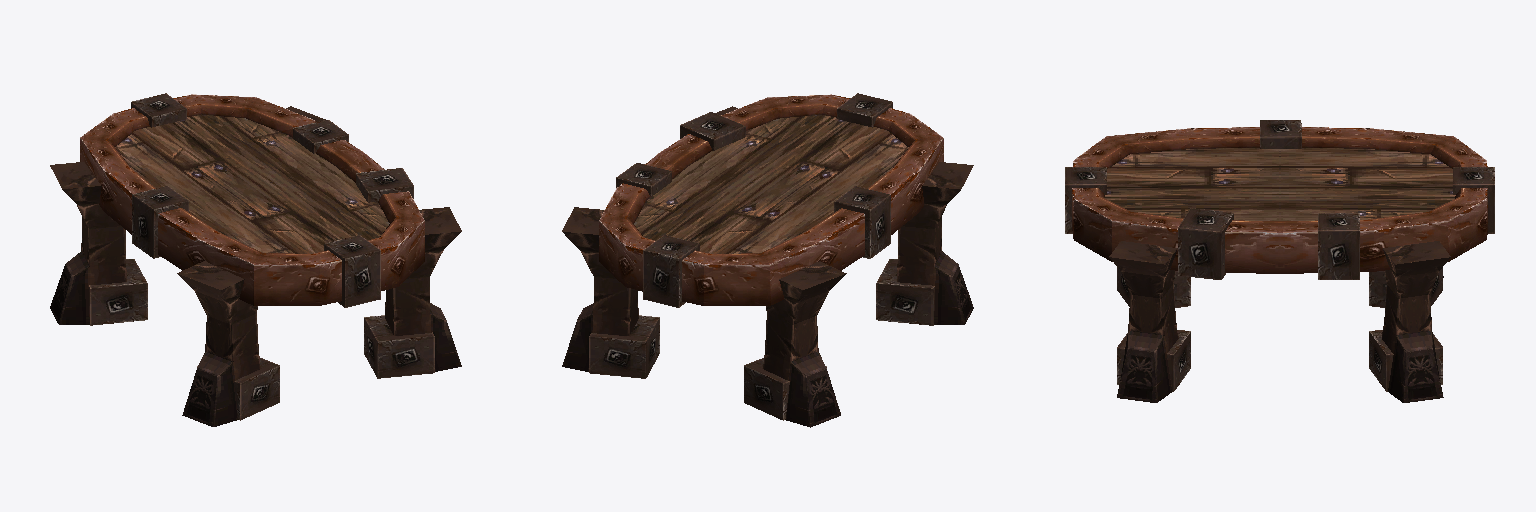
The picture shows the model from 3 angles: view 1: azimuth 30°, elevation 25°; view 2: azimuth 150°, elevation 25°; view 3: azimuth 270°, elevation 25°; orthographic projection.
Visible parts, largest first — view 1: winterorc_table_020; view 2: winterorc_table_020; view 3: winterorc_table_020.
Boxes of the visible parts, <box> form: winterorc_table_020: <box>50,93,461,426</box>; winterorc_table_020: <box>562,93,973,427</box>; winterorc_table_020: <box>1065,120,1494,402</box>.
Bounding box in the file's own units: 1.94 × 1.11 × 2.64.
1 materials, 1 textured.